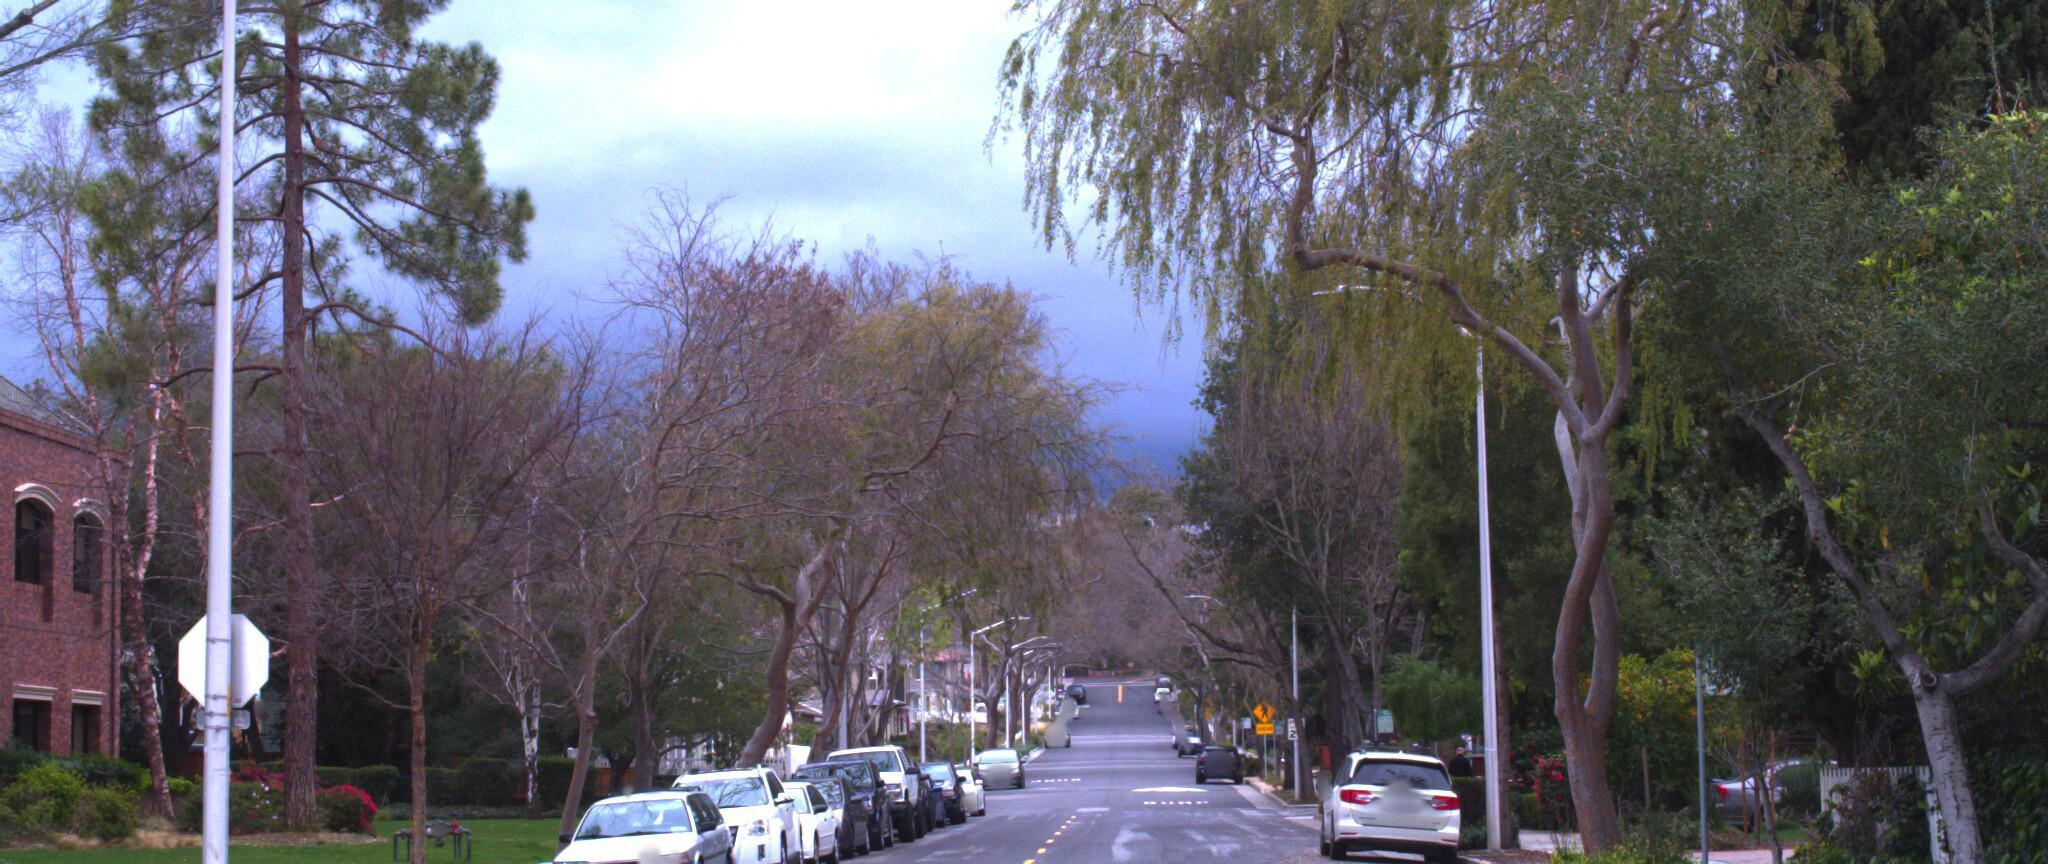car: (1317, 733, 1471, 864), (637, 760, 820, 864), (546, 784, 743, 864), (805, 740, 936, 847), (699, 777, 856, 864)
